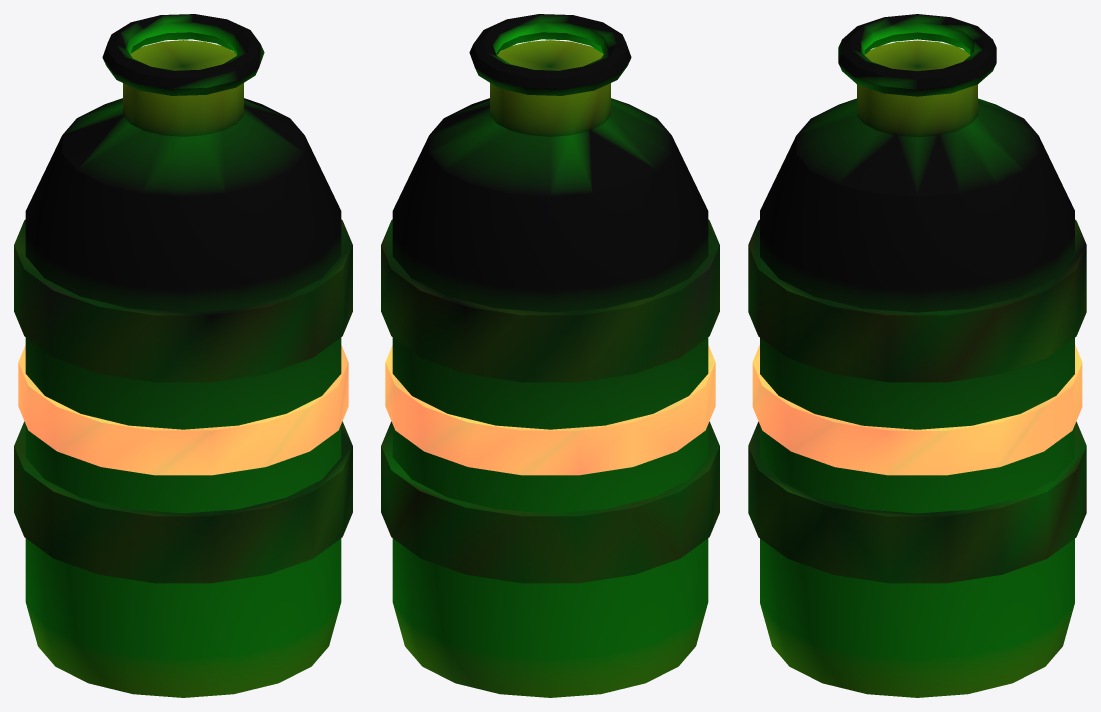
Rendered from hero_cryo_canister.glb.
3 renders of one model, left to right at view 1: azimuth 30°, elevation 25°; view 2: azimuth 150°, elevation 25°; view 3: azimuth 270°, elevation 25°, orthographic.
Visible parts, largest first — view 1: HeroCryoCanister; view 2: HeroCryoCanister; view 3: HeroCryoCanister.
Part boxes in pixels (x1=…): HeroCryoCanister: x1=14, y1=14, x2=352, y2=697; HeroCryoCanister: x1=381, y1=14, x2=719, y2=697; HeroCryoCanister: x1=748, y1=14, x2=1086, y2=697.
Bounding box in the file's own units: 0.5416 × 1.06 × 0.55.
